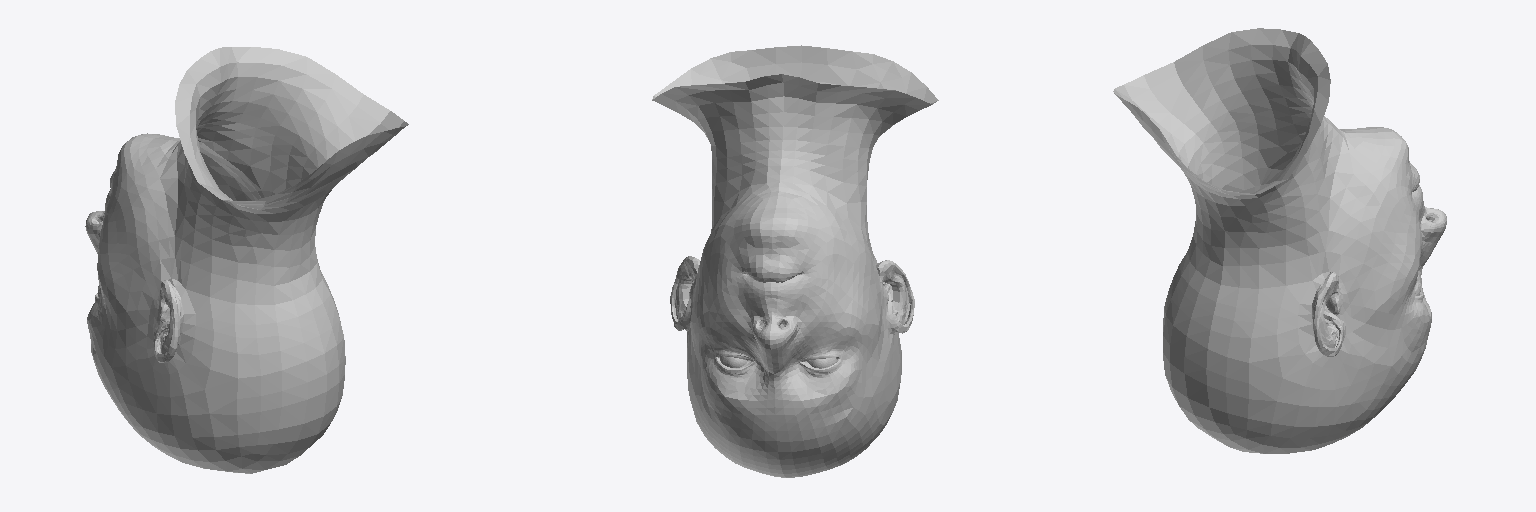
The model's file is mesh_coarse_trans.obj.
The picture shows the model from 3 angles: view 1: azimuth 30°, elevation 25°; view 2: azimuth 150°, elevation 25°; view 3: azimuth 270°, elevation 25°; orthographic projection.
Bounding box in the file's own units: 2.14 × 3.3 × 2.49.